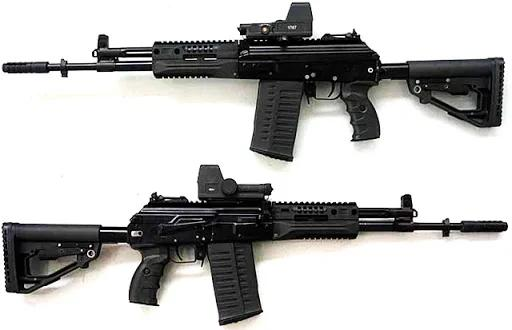larga: (1, 163, 508, 326), (2, 2, 505, 163)
